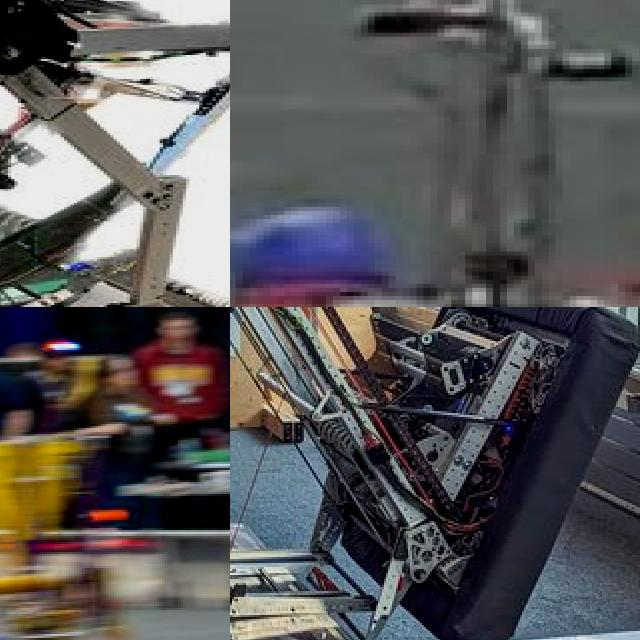FRC-Robots: (230, 307, 640, 640), (230, 0, 640, 307), (0, 0, 230, 307), (0, 413, 216, 640), (148, 385, 230, 640)
